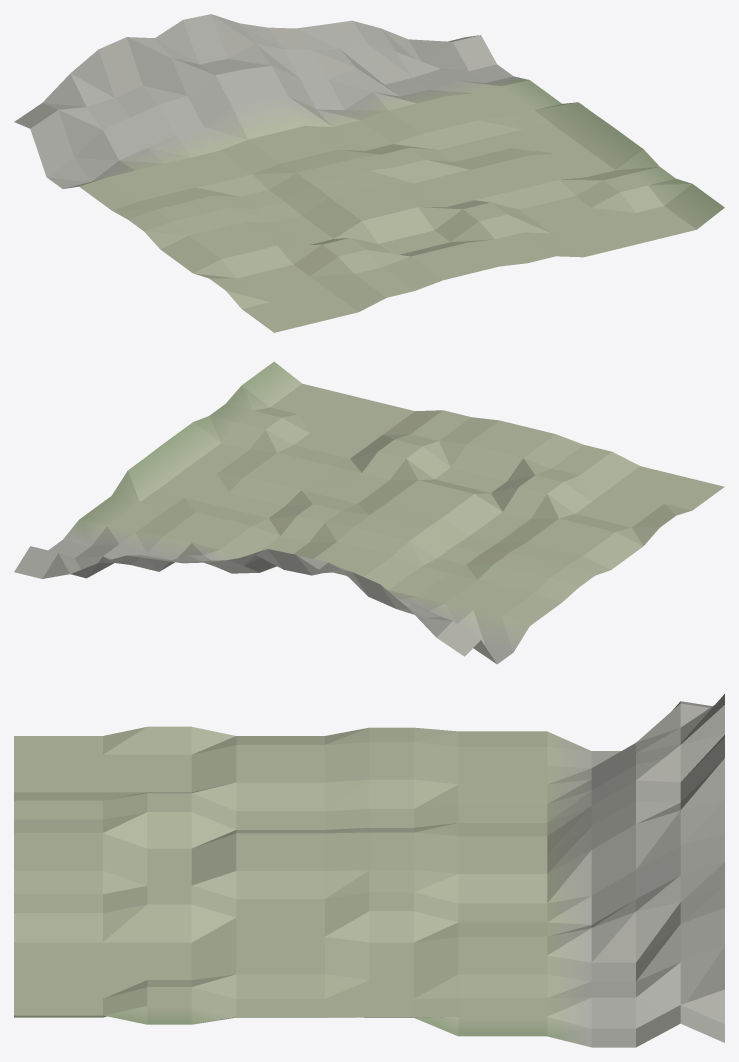
3 views of the same model, one above another, from view 1: azimuth 30°, elevation 25°; view 2: azimuth 150°, elevation 25°; view 3: azimuth 270°, elevation 25° (orthographic). The views are drawn at different scales.
Bounding box in the file's own units: 32 × 6.27 × 32.
